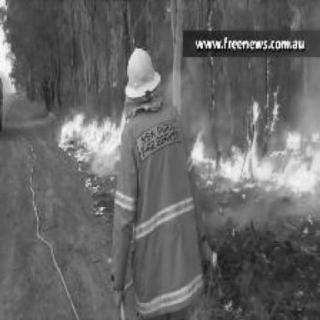Fire: (191, 98, 318, 196)
